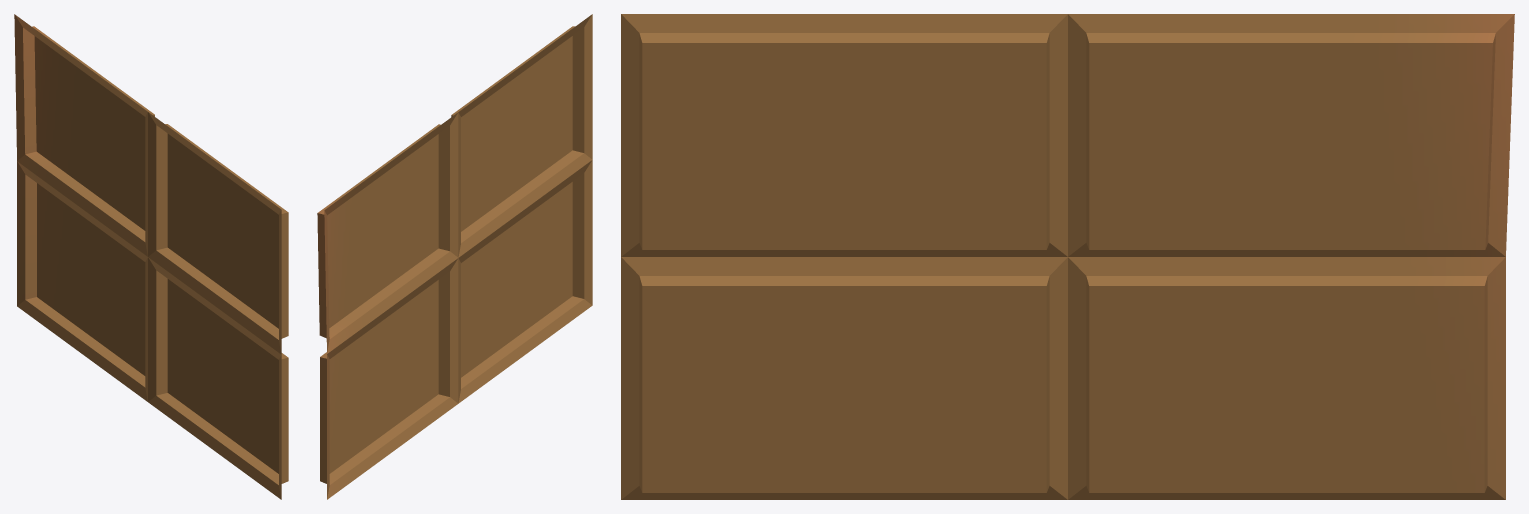
The model's file is Stairs Side 2x2.fbx.
The picture shows the model from 3 angles, left to right: view 1: azimuth 30°, elevation 25°; view 2: azimuth 150°, elevation 25°; view 3: azimuth 270°, elevation 25°; orthographic projection. The views are drawn at different scales.
Parts seen in each view (by area): view 1: Stair Asset Side 2x2; view 2: Stair Asset Side 2x2; view 3: Stair Asset Side 2x2.
Boxes of the visible parts, left/top/right/bottom form: Stair Asset Side 2x2: left=14, top=14, right=288, bottom=499; Stair Asset Side 2x2: left=317, top=14, right=592, bottom=499; Stair Asset Side 2x2: left=621, top=14, right=1514, bottom=499.
Size of the model in its own units: 2.9 by 60 by 100.
